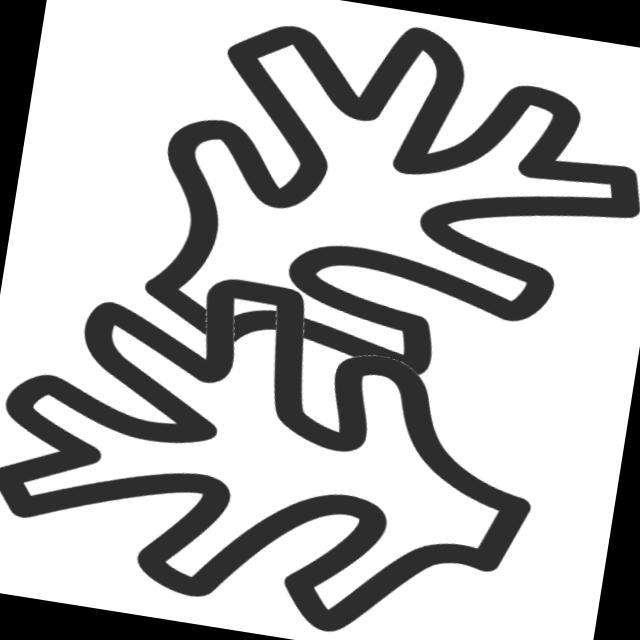coral: (1, 236, 569, 640), (120, 1, 640, 424)
